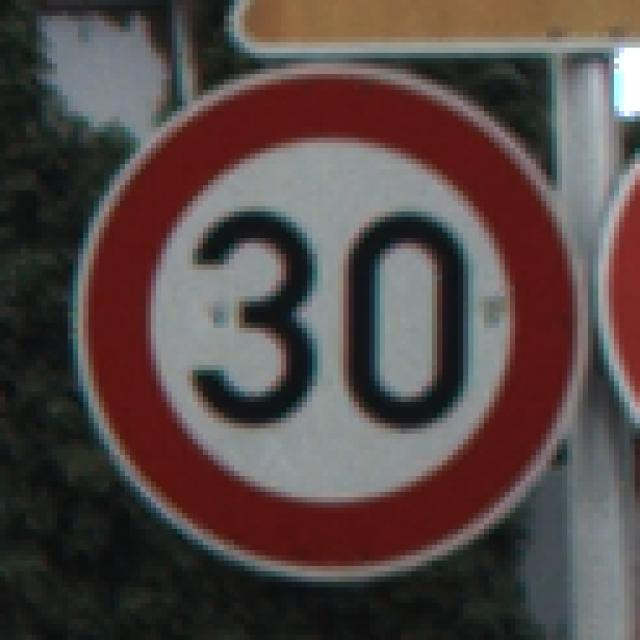Speed Limit -30-: (55, 56, 580, 584)
